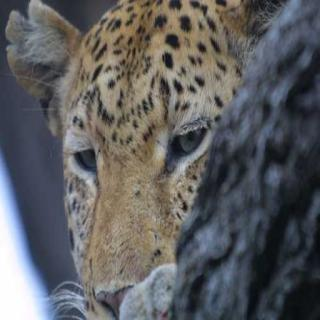Leopard: (0, 0, 272, 318)
